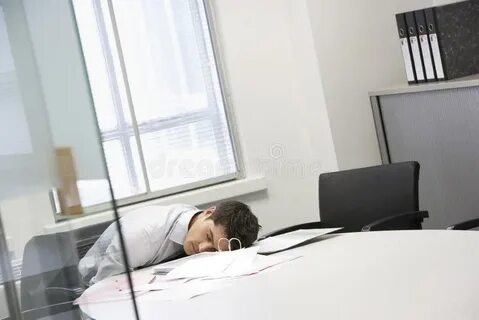sleep: (84, 201, 259, 276)
